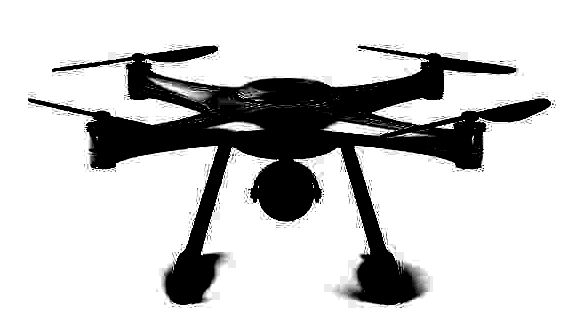Drone: (22, 32, 551, 310)
